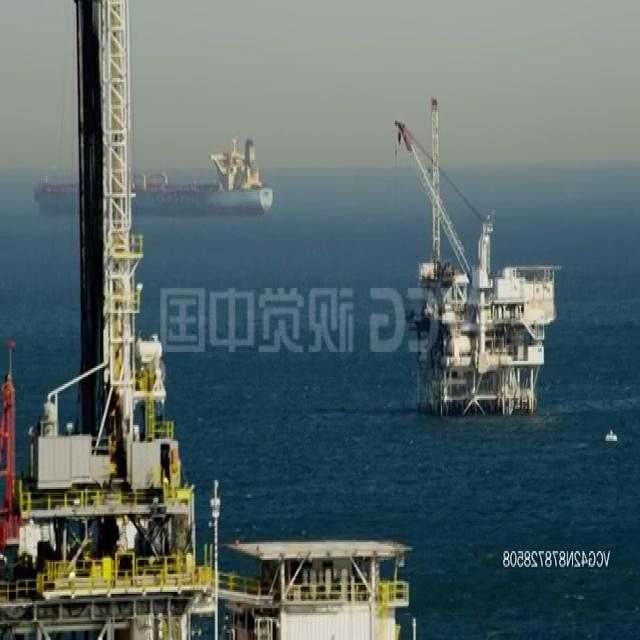cargoship: (38, 126, 272, 218)
